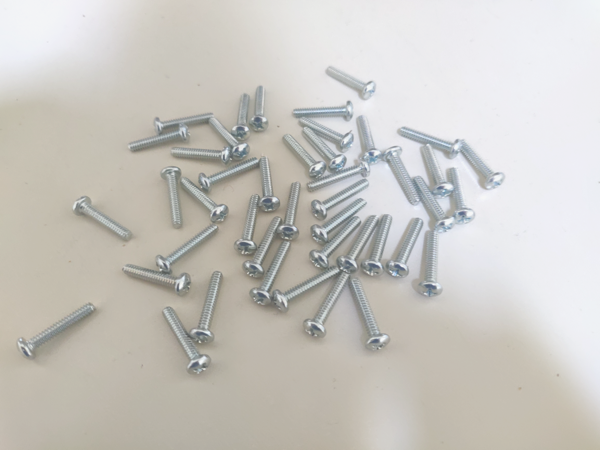longscrew: (20, 303, 99, 355), (159, 306, 212, 378), (306, 274, 353, 337), (156, 225, 219, 272), (191, 273, 231, 344), (254, 243, 297, 309), (73, 195, 132, 242), (312, 196, 368, 245), (275, 267, 337, 310), (350, 281, 388, 351), (312, 217, 365, 267), (307, 178, 369, 220), (248, 215, 286, 277), (338, 215, 380, 271), (461, 136, 502, 190), (304, 160, 369, 193), (120, 266, 191, 296), (415, 175, 453, 230), (390, 220, 427, 276), (203, 152, 260, 188), (400, 126, 461, 159), (184, 179, 229, 223), (128, 124, 193, 154), (387, 149, 421, 206), (302, 126, 346, 170), (296, 116, 354, 149), (417, 232, 446, 297), (448, 163, 474, 232), (204, 120, 251, 158), (281, 136, 325, 176), (418, 145, 453, 195), (279, 181, 306, 242), (236, 194, 262, 256), (330, 62, 374, 97), (154, 108, 213, 134), (367, 214, 391, 277), (163, 169, 184, 229), (292, 99, 353, 119), (168, 146, 231, 164), (232, 93, 256, 139), (250, 86, 272, 132), (361, 115, 378, 163), (260, 156, 274, 212)
